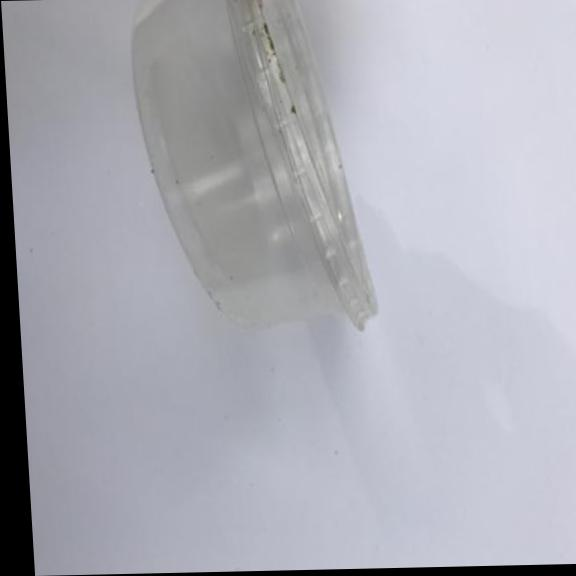Plastik: (123, 0, 386, 346)
